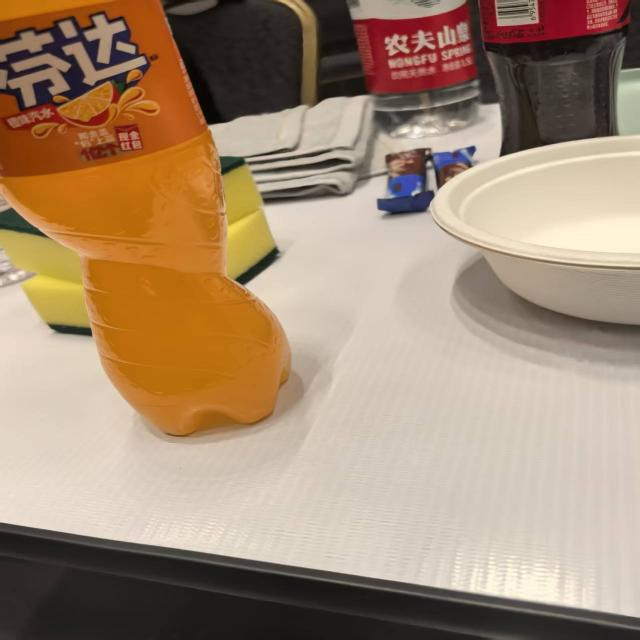orange: (0, 8, 152, 158)
